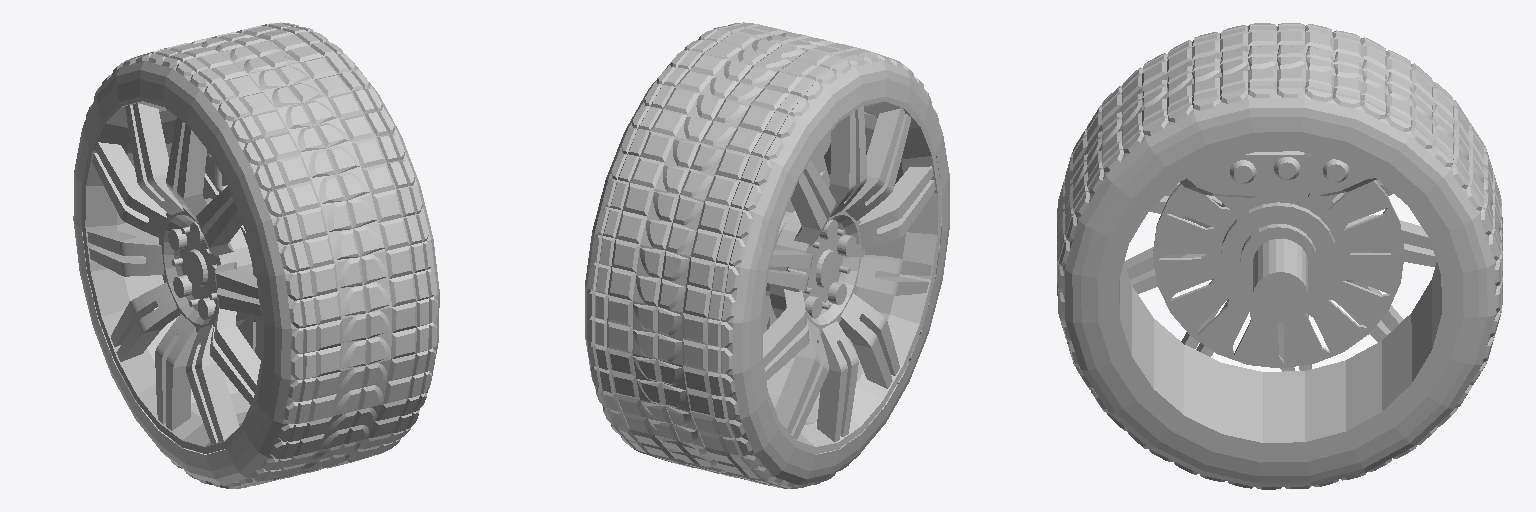
Rendered from wheel.obj.
3 views of the same model, side by side, from view 1: azimuth 30°, elevation 25°; view 2: azimuth 150°, elevation 25°; view 3: azimuth 270°, elevation 25° (orthographic).
Parts seen in each view (by area): view 1: Mesh3 Group3 Tire3_1 LLAnta1 Llanta_BMW1 Model, Mesh15 Group8 Group5 Group4 ske2D1_1 Llanta_BMW1 Model, Mesh16 Group9 Group4 ske2D1_1 Llanta_BMW1 Model, Mesh1 Group1 Llanta_BMW1 Model, Mesh14 Group7 Group5 Group4 ske2D1_1 Llanta_BMW1 Model; view 2: Mesh3 Group3 Tire3_1 LLAnta1 Llanta_BMW1 Model, Mesh15 Group8 Group5 Group4 ske2D1_1 Llanta_BMW1 Model, Mesh16 Group9 Group4 ske2D1_1 Llanta_BMW1 Model, Mesh1 Group1 Llanta_BMW1 Model, Mesh14 Group7 Group5 Group4 ske2D1_1 Llanta_BMW1 Model; view 3: Mesh3 Group3 Tire3_1 LLAnta1 Llanta_BMW1 Model, Mesh16 Group9 Group4 ske2D1_1 Llanta_BMW1 Model, Mesh1 Group1 Llanta_BMW1 Model, Mesh15 Group8 Group5 Group4 ske2D1_1 Llanta_BMW1 Model, Mesh2 Group2 Llanta_BMW1 Model.
Boxes of the visible parts, x1=… form: Mesh3 Group3 Tire3_1 LLAnta1 Llanta_BMW1 Model: x1=73, y1=22, x2=439, y2=488; Mesh15 Group8 Group5 Group4 ske2D1_1 Llanta_BMW1 Model: x1=87, y1=103, x2=260, y2=444; Mesh16 Group9 Group4 ske2D1_1 Llanta_BMW1 Model: x1=82, y1=97, x2=263, y2=453; Mesh1 Group1 Llanta_BMW1 Model: x1=203, y1=161, x2=261, y2=359; Mesh14 Group7 Group5 Group4 ske2D1_1 Llanta_BMW1 Model: x1=185, y1=249, x2=207, y2=286; Mesh3 Group3 Tire3_1 LLAnta1 Llanta_BMW1 Model: x1=585, y1=22, x2=949, y2=488; Mesh15 Group8 Group5 Group4 ske2D1_1 Llanta_BMW1 Model: x1=763, y1=106, x2=935, y2=441; Mesh16 Group9 Group4 ske2D1_1 Llanta_BMW1 Model: x1=761, y1=96, x2=940, y2=453; Mesh1 Group1 Llanta_BMW1 Model: x1=763, y1=157, x2=829, y2=333; Mesh14 Group7 Group5 Group4 ske2D1_1 Llanta_BMW1 Model: x1=816, y1=249, x2=838, y2=287; Mesh3 Group3 Tire3_1 LLAnta1 Llanta_BMW1 Model: x1=1057, y1=23, x2=1502, y2=489; Mesh16 Group9 Group4 ske2D1_1 Llanta_BMW1 Model: x1=1097, y1=132, x2=1463, y2=462; Mesh1 Group1 Llanta_BMW1 Model: x1=1153, y1=180, x2=1404, y2=368; Mesh15 Group8 Group5 Group4 ske2D1_1 Llanta_BMW1 Model: x1=1124, y1=179, x2=1436, y2=371; Mesh2 Group2 Llanta_BMW1 Model: x1=1180, y1=151, x2=1376, y2=197.
Bounding box in the file's own units: 0.3031 × 0.6751 × 0.6741.